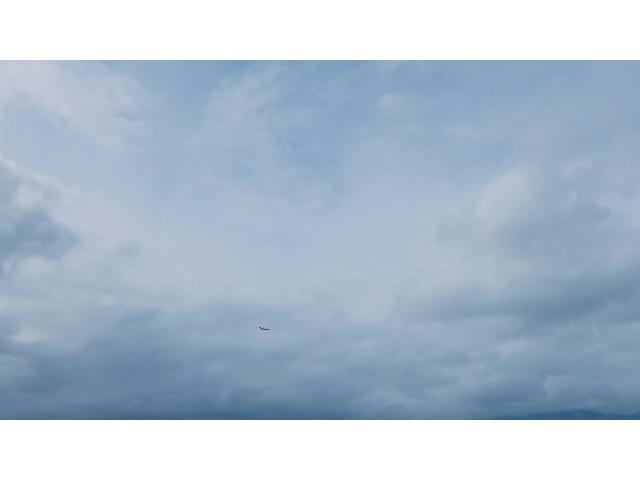Anti-Drone: (256, 323, 268, 333)
